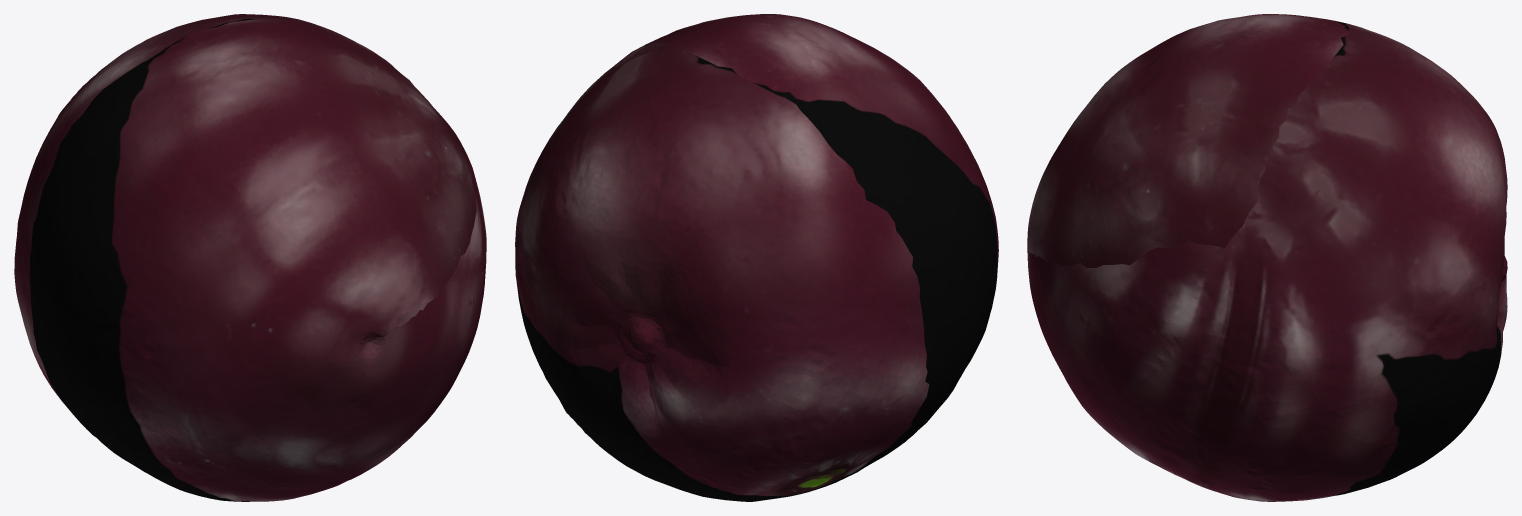
The picture shows the model from 3 angles, left to right: view 1: azimuth 30°, elevation 25°; view 2: azimuth 150°, elevation 25°; view 3: azimuth 270°, elevation 25°; orthographic projection. The views are drawn at different scales.
Visible parts, largest first — view 1: node; view 2: node; view 3: node.
Part boxes in pixels (bbox=[...]): node: bbox=[14, 14, 486, 501]; node: bbox=[515, 14, 998, 501]; node: bbox=[1027, 14, 1507, 501].
Size of the model in its own units: 0.0722 by 0.074 by 0.0714.
